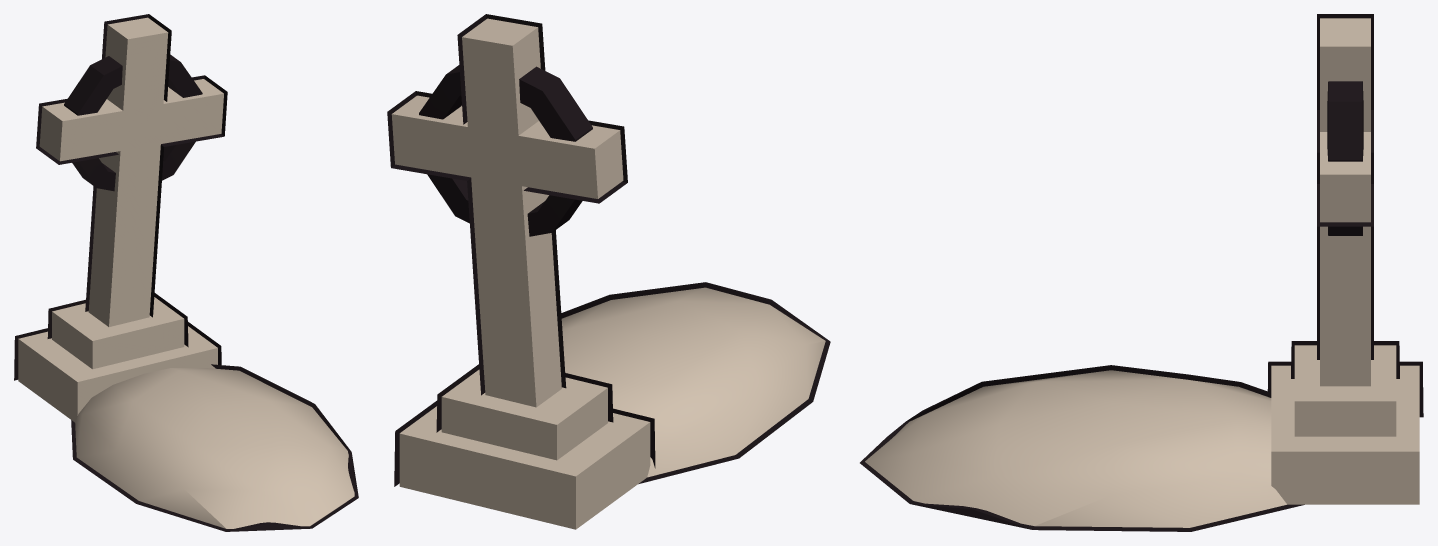
File: SM_Tombstone_02.fbx
The picture shows the model from 3 angles, left to right: view 1: azimuth 30°, elevation 25°; view 2: azimuth 150°, elevation 25°; view 3: azimuth 270°, elevation 25°; orthographic projection. The views are drawn at different scales.
Visible parts, largest first — view 1: SM_Tombstone_02; view 2: SM_Tombstone_02; view 3: SM_Tombstone_02.
Part boxes in pixels (x1=…): SM_Tombstone_02: x1=14, y1=14, x2=358, y2=531; SM_Tombstone_02: x1=387, y1=14, x2=830, y2=529; SM_Tombstone_02: x1=860, y1=14, x2=1423, y2=531.
Size of the model in its own units: 0.8129 by 1.28 by 1.44.
